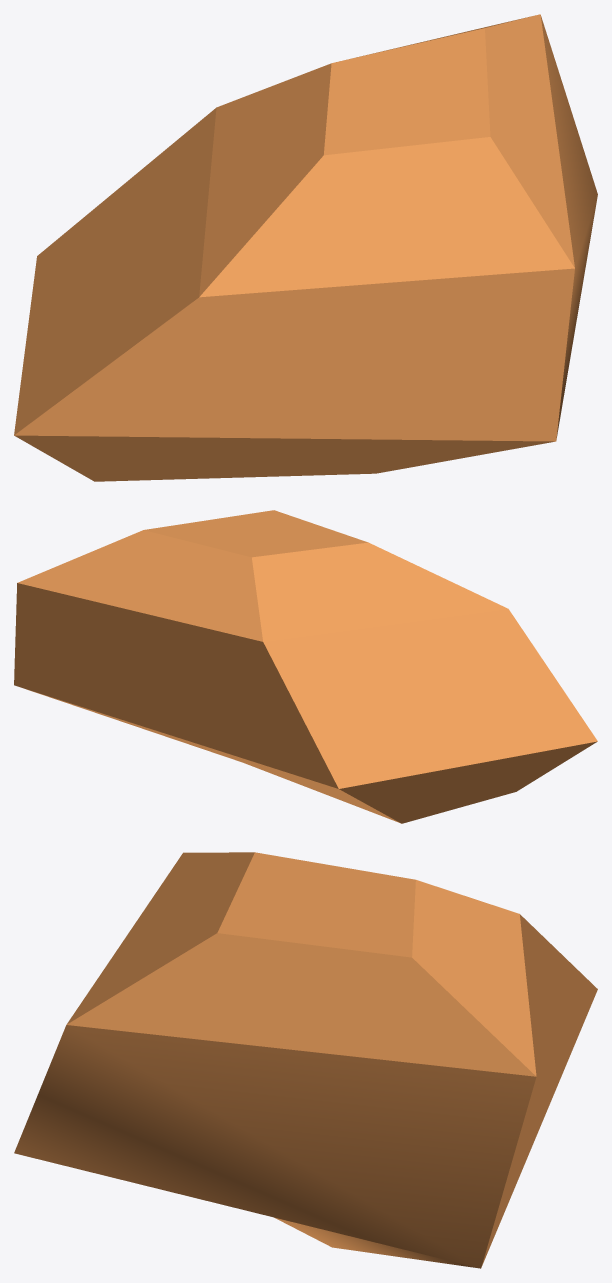
The model's file is SM_SmallRock_8.FBX.
3 views of the same model, one above another, from view 1: azimuth 30°, elevation 25°; view 2: azimuth 150°, elevation 25°; view 3: azimuth 270°, elevation 25° (orthographic). The views are drawn at different scales.
Parts seen in each view (by area): view 1: Rock 8; view 2: Rock 8; view 3: Rock 8.
Boxes of the visible parts, x1,y1,x2,y2 form: Rock 8: (14, 14, 597, 481); Rock 8: (14, 510, 597, 823); Rock 8: (14, 852, 597, 1268).
Size of the model in its own units: 29.17 by 13.12 by 20.27.
